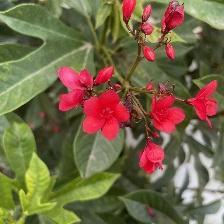jatropha: (82, 88, 133, 143), (56, 63, 97, 114), (148, 92, 188, 136), (189, 79, 221, 128), (138, 141, 169, 176)
